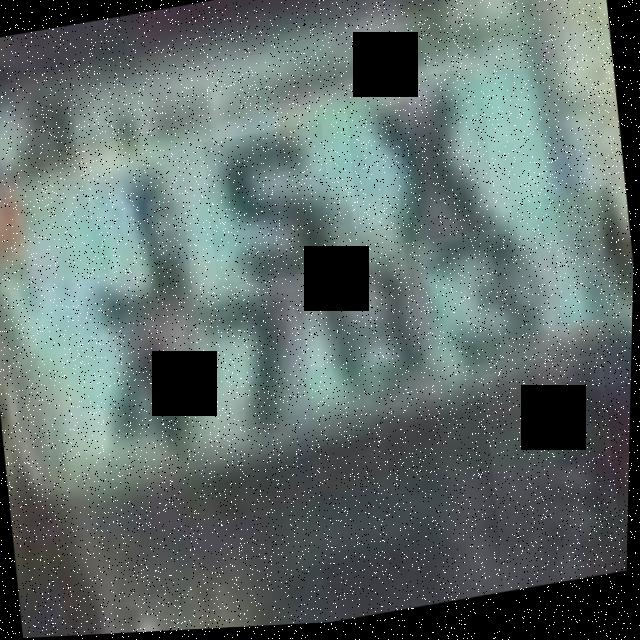3: (401, 203, 569, 380)
6: (480, 359, 630, 598)
7: (183, 292, 317, 438)
8: (297, 232, 449, 424)
J: (52, 162, 206, 340)
S: (201, 125, 341, 291)
X: (342, 71, 500, 256)
